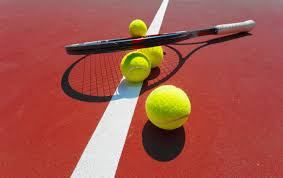tennis_ball: (145, 84, 192, 130), (120, 51, 149, 82), (137, 42, 164, 68), (128, 18, 146, 39)
